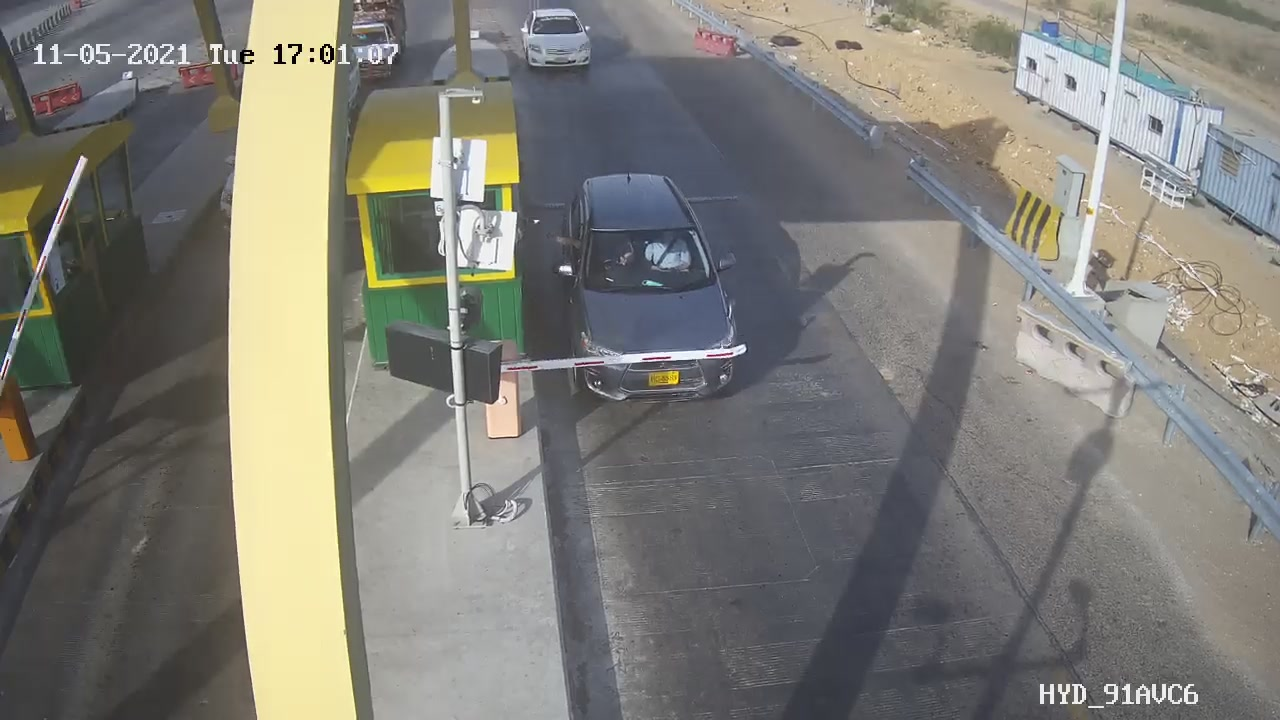F1: (544, 156, 770, 430)
